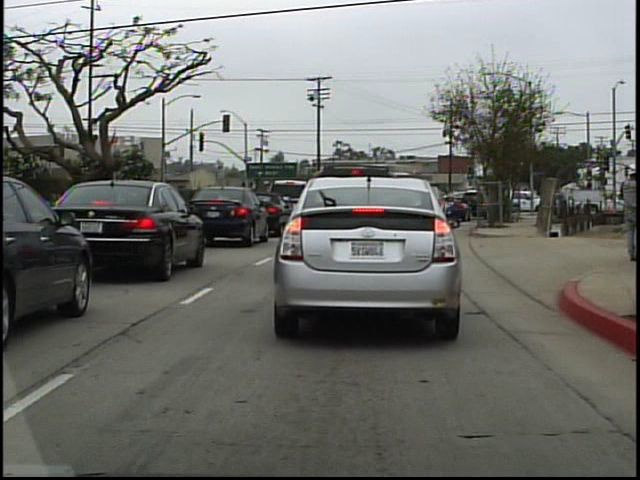person: (613, 158, 637, 265)
